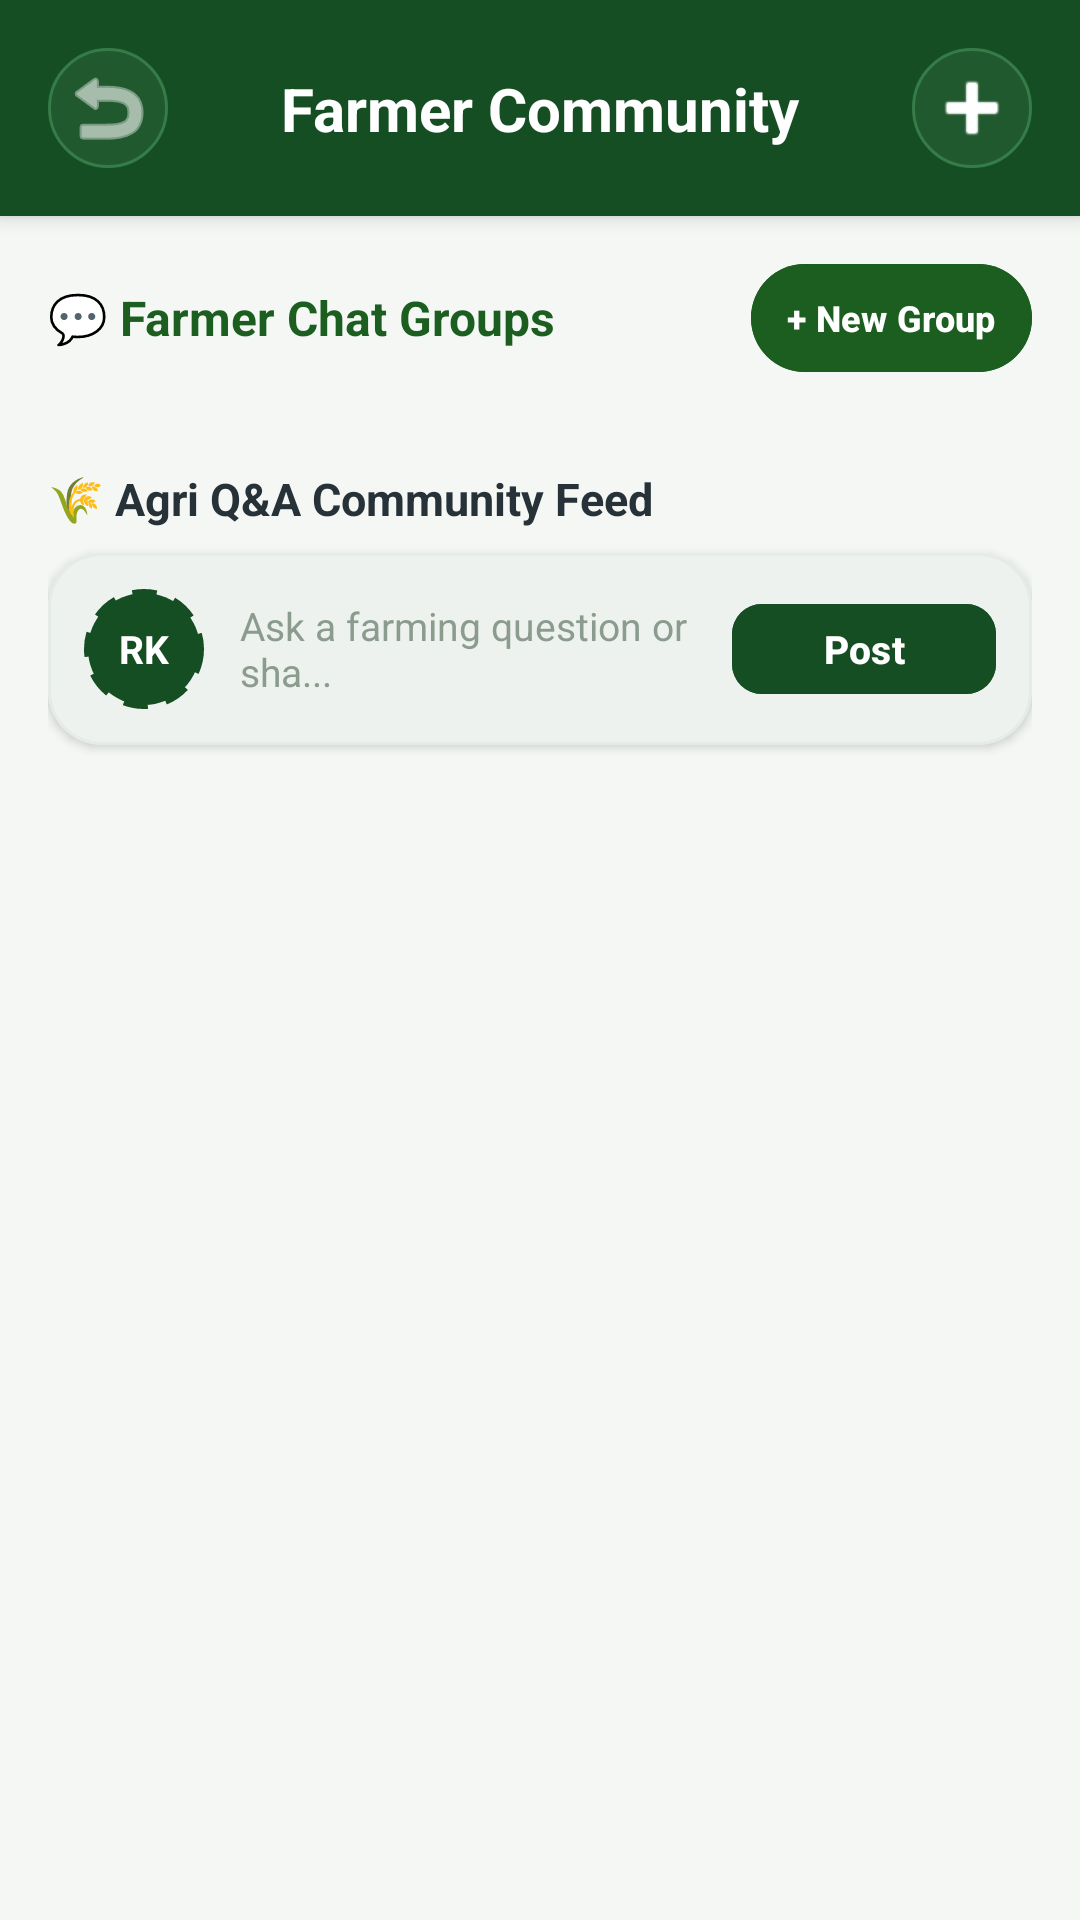

Named icons in this screenshot (1080x1920) and their centers, (x,y):
add: (972,108)
revert: (108,108)
